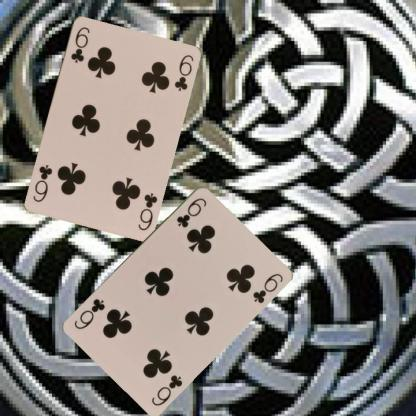6c: (148, 372, 184, 407), (174, 195, 208, 229), (136, 190, 158, 232), (67, 24, 90, 64)
